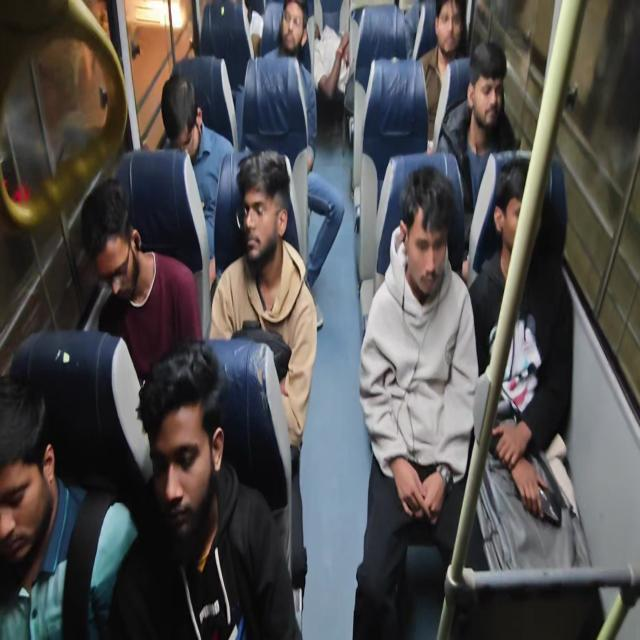person: (147, 337, 280, 554), (68, 176, 174, 364), (0, 374, 85, 587), (392, 177, 482, 336), (231, 162, 313, 327), (150, 54, 225, 176), (465, 45, 533, 159), (310, 6, 364, 143), (486, 176, 550, 284), (427, 0, 475, 71), (212, 0, 260, 48), (270, 0, 302, 71)
